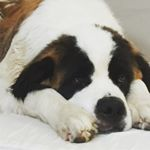puppy: (9, 14, 150, 145)
